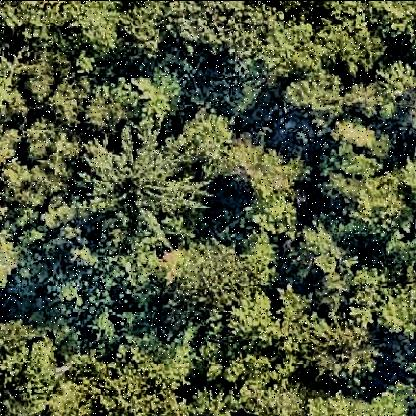tree-top: (82, 129, 212, 251), (148, 239, 258, 325), (82, 69, 181, 139), (250, 14, 333, 84), (231, 147, 305, 225), (334, 171, 412, 241), (14, 117, 80, 197), (301, 318, 379, 385), (16, 43, 92, 111), (352, 255, 416, 333), (305, 11, 381, 76), (2, 332, 64, 411), (173, 102, 237, 176), (168, 5, 254, 57), (133, 330, 200, 396), (230, 361, 310, 416), (281, 70, 347, 135), (285, 218, 353, 274), (112, 1, 172, 61), (77, 137, 126, 209), (309, 388, 412, 416), (379, 56, 416, 126), (330, 116, 381, 159), (78, 1, 118, 55), (367, 1, 416, 45), (1, 1, 50, 45), (309, 265, 353, 313), (339, 79, 383, 125), (1, 48, 25, 132), (185, 383, 242, 416), (392, 71, 416, 143), (1, 221, 21, 294), (398, 144, 416, 214), (2, 121, 21, 170)
